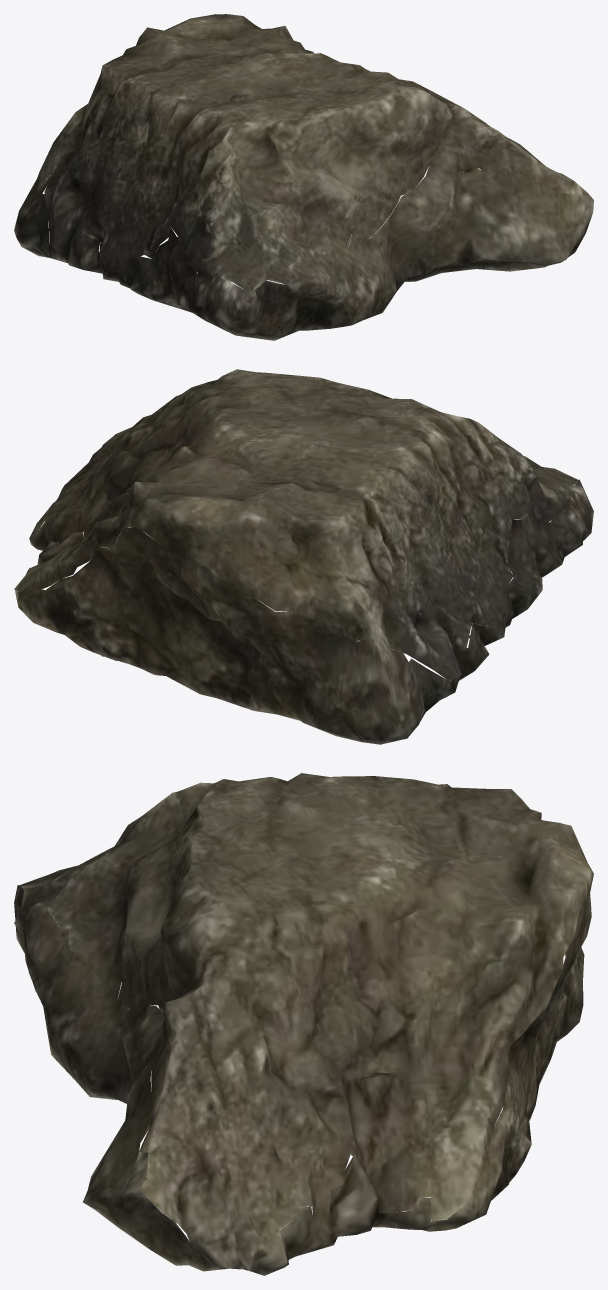
The model's file is rock-moss-set-02-rock08.glb.
3 views of the same model, one above another, from view 1: azimuth 30°, elevation 25°; view 2: azimuth 150°, elevation 25°; view 3: azimuth 270°, elevation 25° (orthographic). The views are drawn at different scales.
Visible parts, largest first — view 1: rock_moss_set_02_rock08; view 2: rock_moss_set_02_rock08; view 3: rock_moss_set_02_rock08.
Part boxes in pixels (x1,y1,x2,y2): rock_moss_set_02_rock08: (14, 14, 593, 340); rock_moss_set_02_rock08: (14, 369, 593, 744); rock_moss_set_02_rock08: (14, 773, 593, 1275).
Size of the model in its own units: 1.21 by 0.5261 by 0.9836.
1 material, 1 textured.
